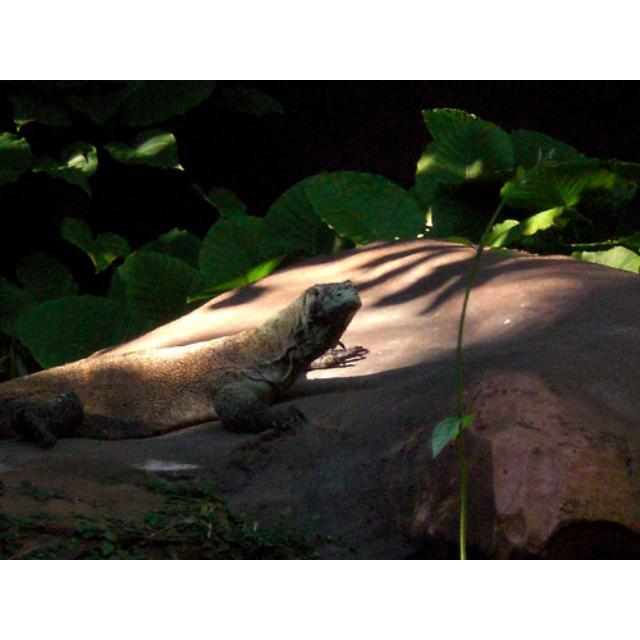KomodoDragon: (1, 278, 372, 423)
